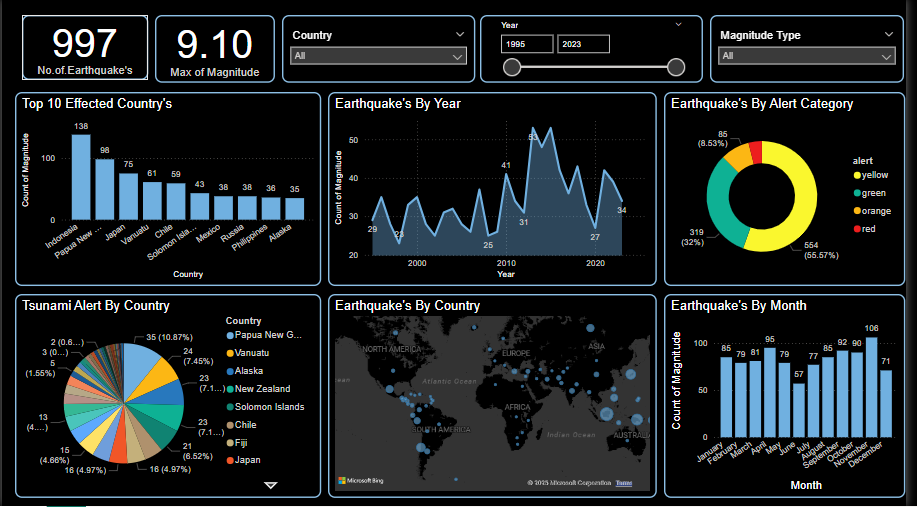

The page's visual inventory and layout, read from the dashboard file:
{"tool":"powerbi","page":{"name":"Page 1","canvas":[1280,720],"ordinal":0},"visuals":[{"type":"clusteredColumnChart","title":"Top 10 Effected Country''s","fields":{"Category":["earthquake_1995-2023.Country"],"Y":["CountNonNull(earthquake_1995-2023.Magnitude)"]},"box":[18.4,133.2,433.7,275],"z":0},{"type":"lineChart","title":"Earthquake''s By Year","fields":{"Category":["earthquake_1995-2023.Year"],"Y":["CountNonNull(earthquake_1995-2023.Magnitude)"]},"box":[462,133.2,466.3,275],"z":1000},{"type":"donutChart","title":"Earthquake''s By Alert Category","fields":{"Category":["earthquake_1995-2023.alert"],"Y":["CountNonNull(earthquake_1995-2023.Magnitude)"]},"box":[938.3,133.2,341.6,275],"z":2000},{"type":"pieChart","title":"Tsunami Alert By Country","fields":{"Y":["Sum(earthquake_1995-2023.Tsunami)"],"Category":["earthquake_1995-2023.Country"]},"box":[18.4,419.5,433.7,289.1],"z":3000},{"type":"clusteredColumnChart","title":"Earthquake''s By Month","fields":{"Y":["CountNonNull(earthquake_1995-2023.Magnitude)"],"Category":["earthquake_1995-2023.Date.Variation.Date Hierarchy.Month"]},"box":[938.3,419.5,341.6,289.1],"z":4000},{"type":"map","title":"Earthquake''s By Country","fields":{"Size":["CountNonNull(earthquake_1995-2023.Magnitude)"],"Category":["Continent.Country / Territory"]},"box":[462,419.5,466.3,289.1],"z":5000},{"type":"slicer","fields":{"Values":["earthquake_1995-2023.Date.Variation.Date Hierarchy.Year"]},"box":[677.5,24.1,316.1,96.4],"z":6000},{"type":"card","fields":{"Values":["CountNonNull(earthquake_1995-2023.Magnitude)"]},"box":[28.3,24.1,178.6,92.1],"z":7000},{"type":"slicer","fields":{"Values":["earthquake_1995-2023.magType"]},"box":[1003.5,24.1,275,96.4],"z":8000},{"type":"card","fields":{"Values":["Max(earthquake_1995-2023.Magnitude)"]},"box":[216.9,24.1,170.1,96.4],"z":9000},{"type":"slicer","fields":{"Values":["earthquake_1995-2023.Country"]},"box":[396.9,24.1,273.5,96.4],"z":10000}]}

Visuals, with their boxes in screenshot pixels (x1, y1, x2, y2), scaled from the page's 1280x720 canvas onto the 917x507 screenshot:
"Top 10 Effected Country''s" clusteredColumnChart: 13,94,324,287
"Earthquake''s By Year" lineChart: 331,94,665,287
"Earthquake''s By Alert Category" donutChart: 672,94,916,287
"Tsunami Alert By Country" pieChart: 13,295,324,499
"Earthquake''s By Month" clusteredColumnChart: 672,295,916,499
"Earthquake''s By Country" map: 331,295,665,499
slicer - earthquake_1995-2023.Date.Variation.Date Hierarchy.Year: 485,17,712,85
card - CountNonNull(earthquake_1995-2023.Magnitude): 20,17,148,82
slicer - earthquake_1995-2023.magType: 719,17,916,85
card - Max(earthquake_1995-2023.Magnitude): 155,17,277,85
slicer - earthquake_1995-2023.Country: 284,17,480,85
